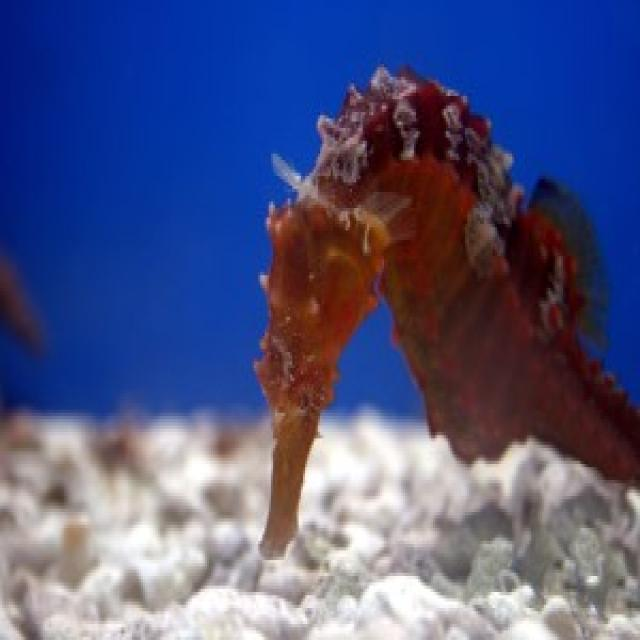Seahorse: (254, 53, 637, 569)
